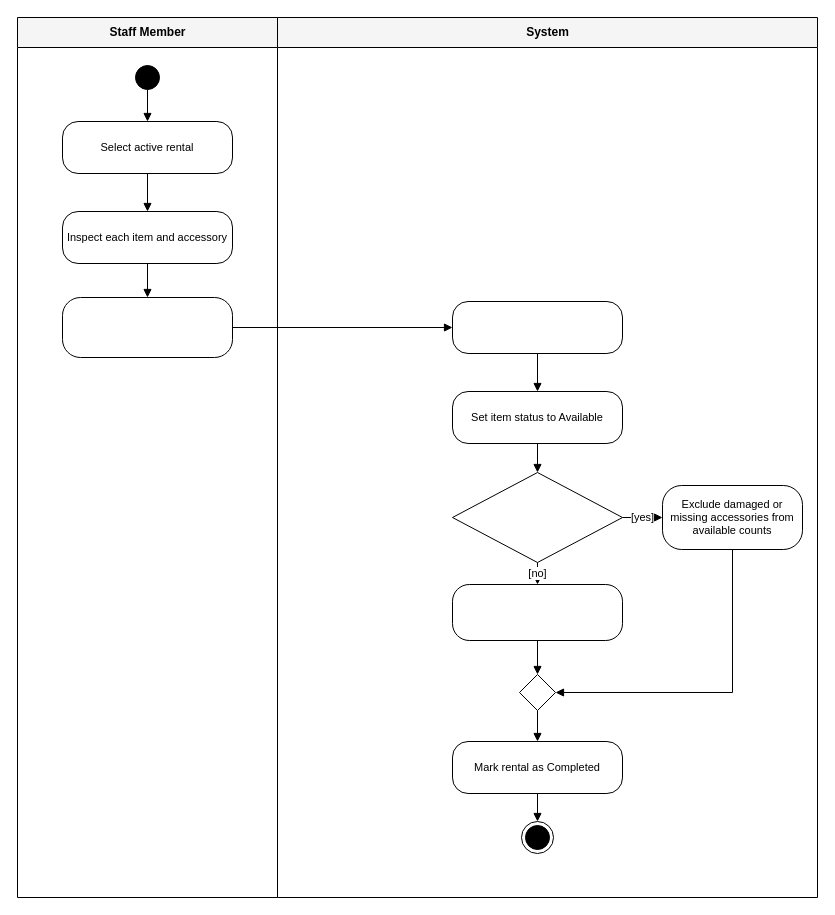
The diagram is 835 pixels wide and 915 high, and some of its shapes have lost their labels. The shapes that lost their labels are listed below. From the top down, each one's centre as x and y in pixels, then its label:
At pixel 147 327: "Mark each accessory Returned, Damaged or Missing".
At pixel 537 327: "Record actual check-in time".
At pixel 537 517: "Accessory damaged or missing?".
At pixel 537 612: "Add returned accessories to available counts".
